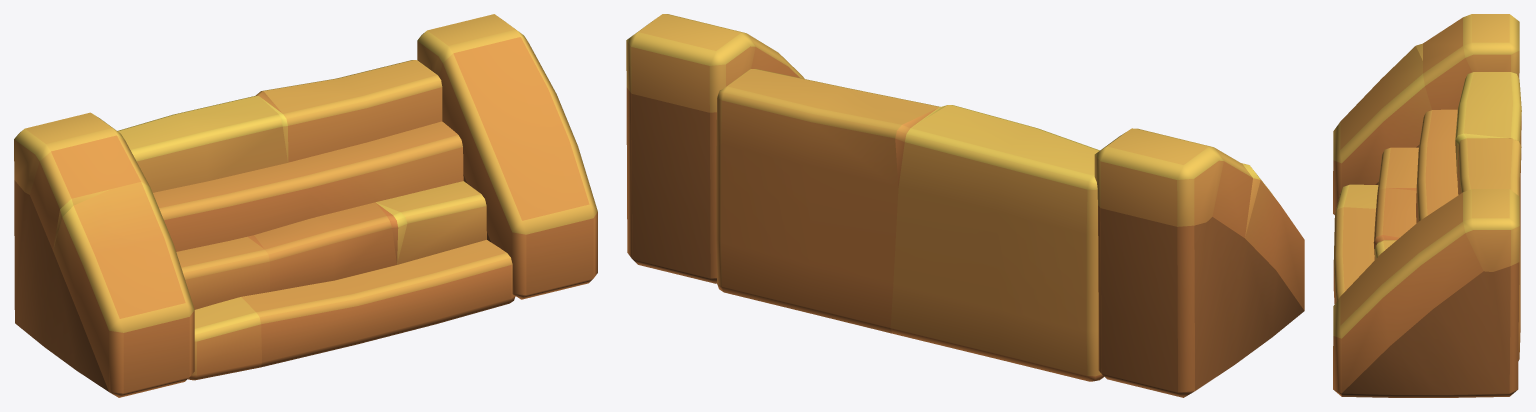
The model's file is stairs.fbx.
The picture shows the model from 3 angles, left to right: view 1: azimuth 30°, elevation 25°; view 2: azimuth 150°, elevation 25°; view 3: azimuth 270°, elevation 25°; orthographic projection. The views are drawn at different scales.
Parts seen in each view (by area): view 1: stairs; view 2: stairs; view 3: stairs.
Part boxes in pixels (x1=…): stairs: x1=14, y1=14, x2=597, y2=397; stairs: x1=626, y1=14, x2=1304, y2=397; stairs: x1=1333, y1=14, x2=1521, y2=397.
Bounding box in the file's own units: 308 × 121 × 114.
